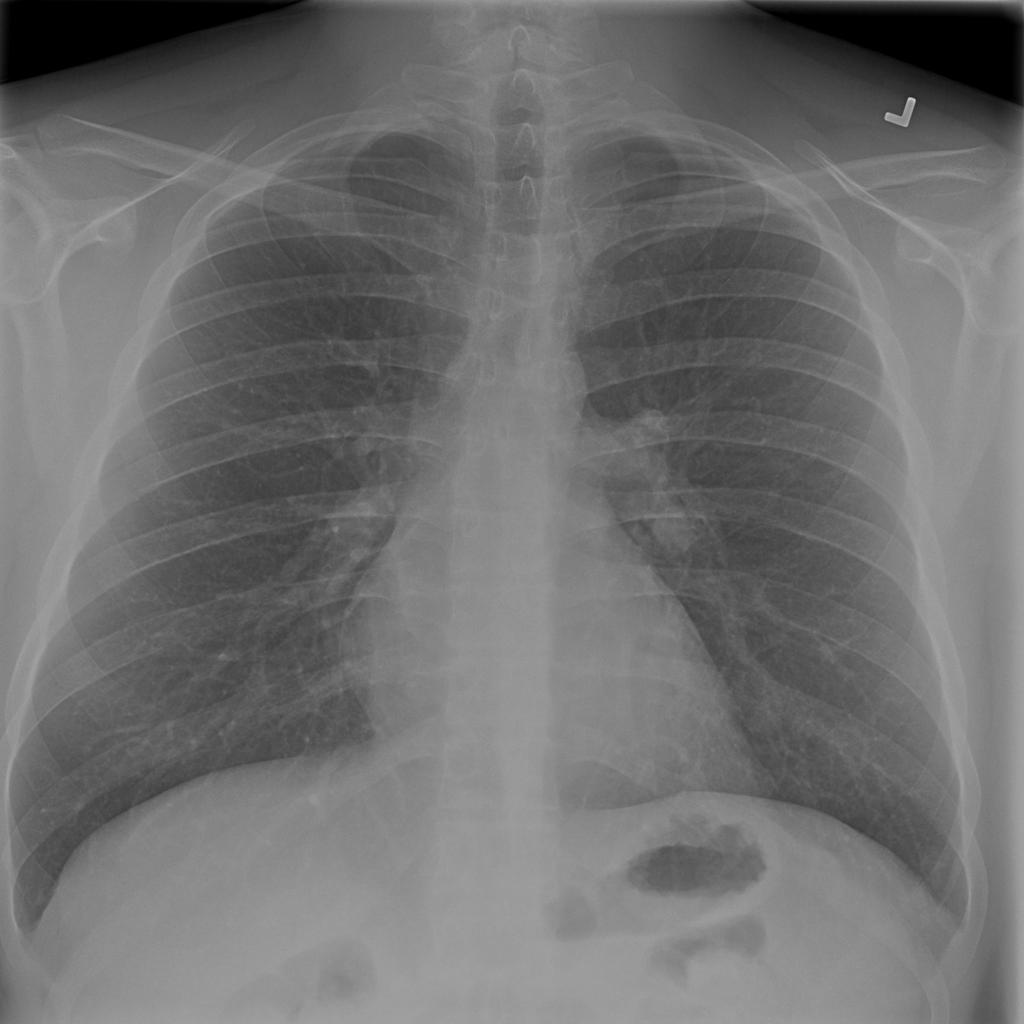nodule: (631, 492, 713, 566)
